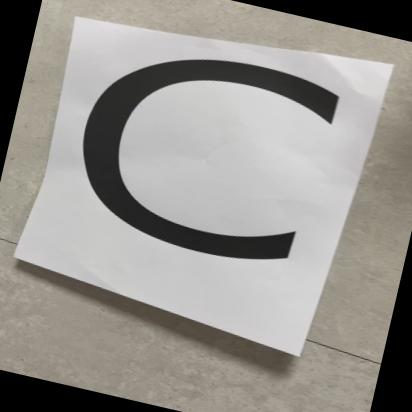seat: (22, 19, 360, 341)
